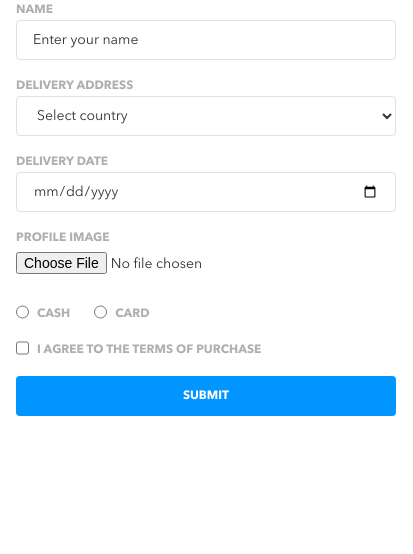
Test: Form › Checking an error for delivery date starts from tomorrow
Type "2023-03-09" into the date field with test id "date-input" at (206, 192), box left=16, top=172, right=396, bottom=212
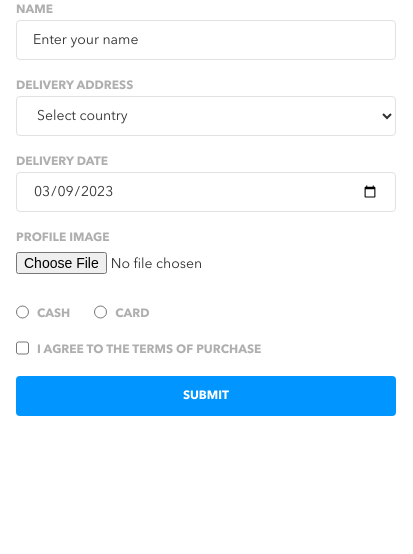
Click the button "Submit" at (206, 396), box left=16, top=376, right=396, bottom=416
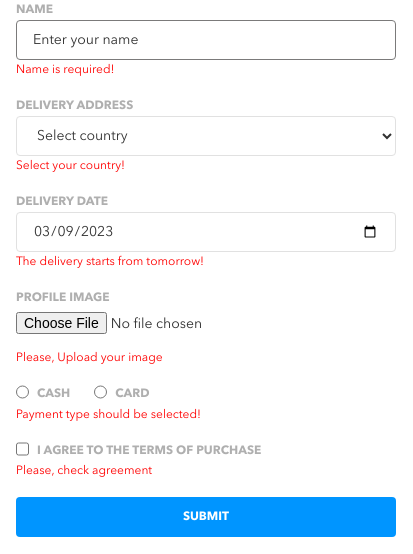
Expected: the text "The delivery starts from tomorrow!" is shown, left=16, top=256, right=204, bottom=268
